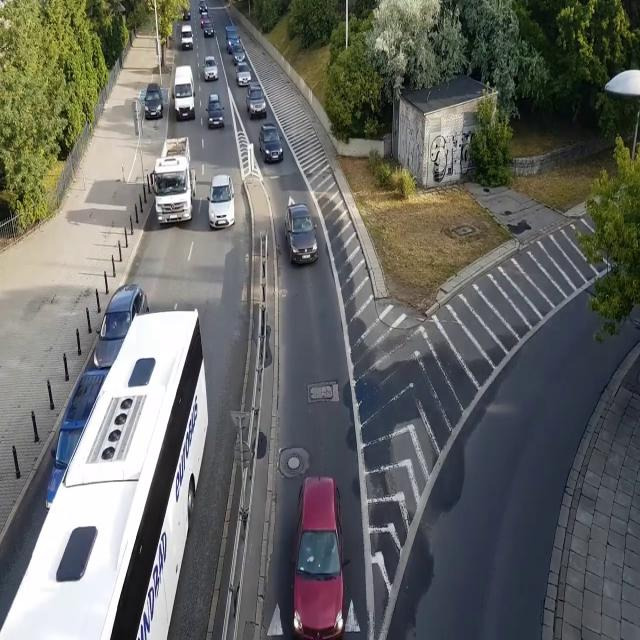bus: (0, 310, 208, 640)
car: (290, 473, 350, 640), (92, 276, 150, 376), (285, 203, 318, 267), (207, 172, 236, 230), (258, 120, 284, 163), (244, 79, 268, 119), (205, 92, 226, 132), (143, 83, 164, 122), (202, 54, 219, 82), (234, 62, 252, 87), (233, 44, 246, 62), (203, 21, 214, 37), (200, 13, 210, 28), (197, 0, 208, 13), (181, 5, 191, 19)
truck: (148, 135, 198, 229)
van: (42, 368, 109, 509), (172, 64, 196, 119), (180, 24, 194, 52)
